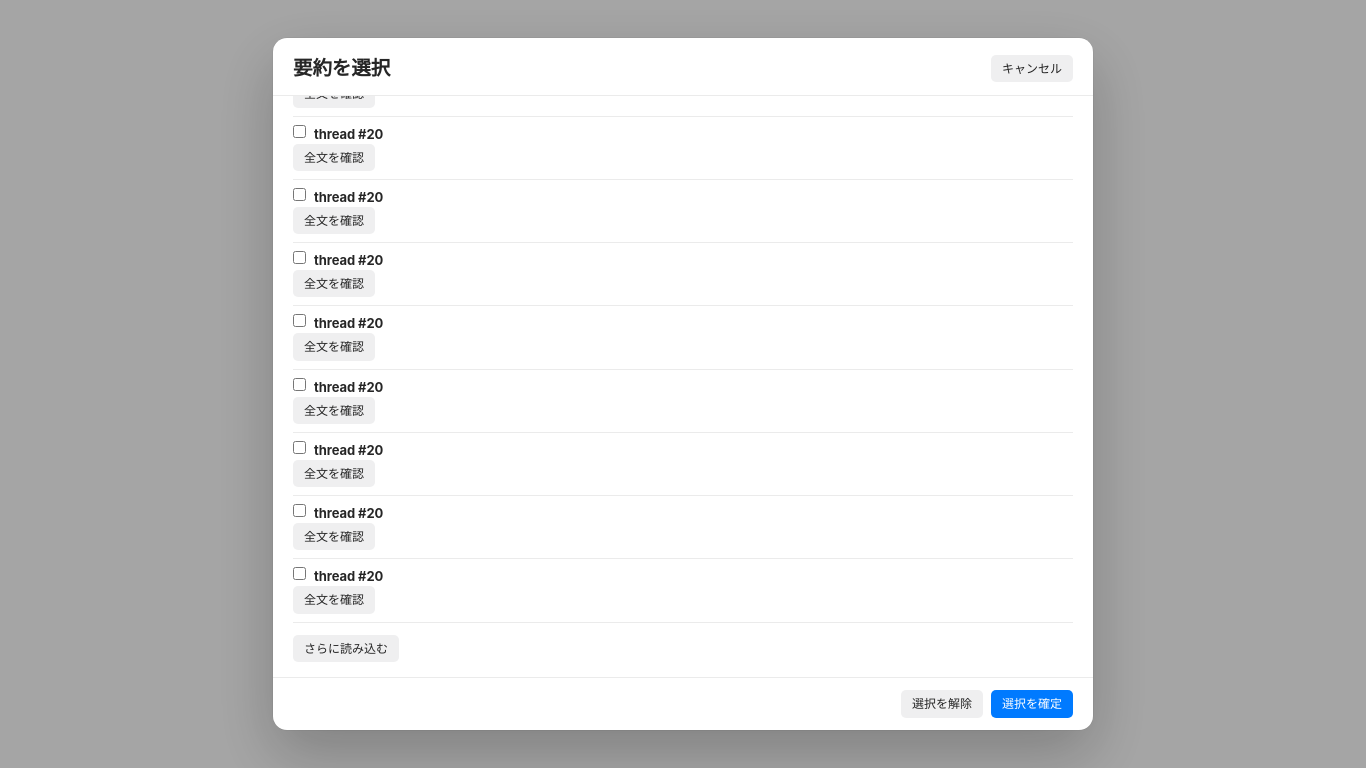
Test: SummarySelectionModal › drops a stale load-more result after switching tabs
(page scrolled)
Step 1. Click the button "さらに読み込む" → point(346, 648), box [293,635,399,662]
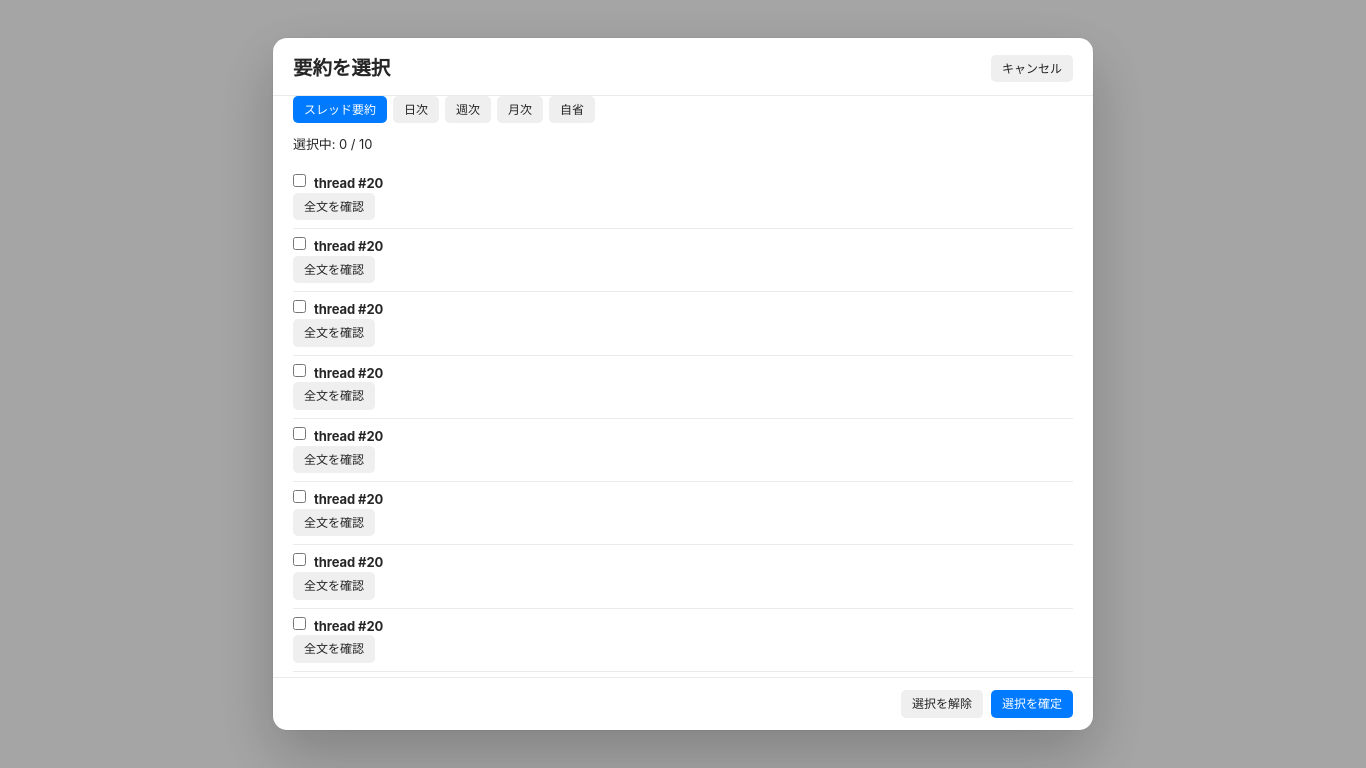
Step 2. Click the tab "日次" → point(416, 109), box [393,96,439,123]
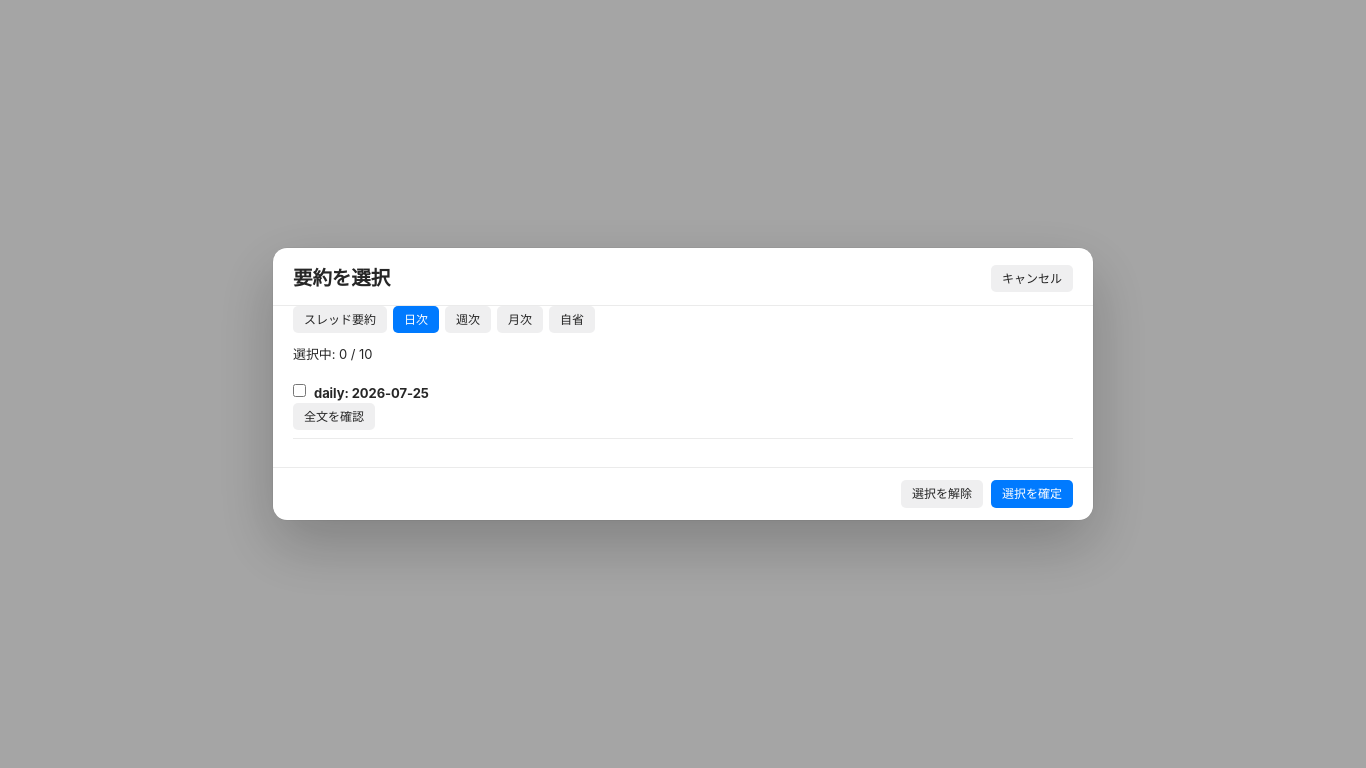
Expected: the text "daily: 2026-07-25" is shown, [314,384,429,403]
